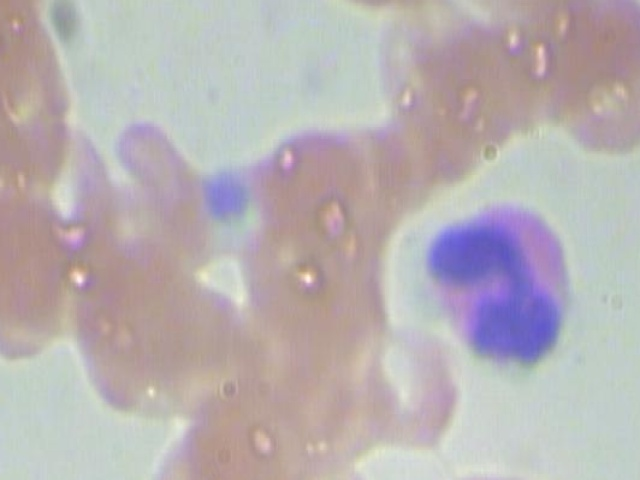Platelets: (197, 166, 259, 222)
RBC: (74, 230, 210, 424), (244, 121, 377, 249), (343, 319, 458, 464), (0, 19, 86, 210), (0, 178, 86, 368), (558, 0, 640, 158), (199, 371, 314, 480), (132, 416, 247, 480), (427, 462, 627, 480), (427, 0, 560, 26), (0, 0, 65, 51), (263, 0, 443, 15), (62, 473, 185, 480)
WBC: (405, 185, 602, 377)
